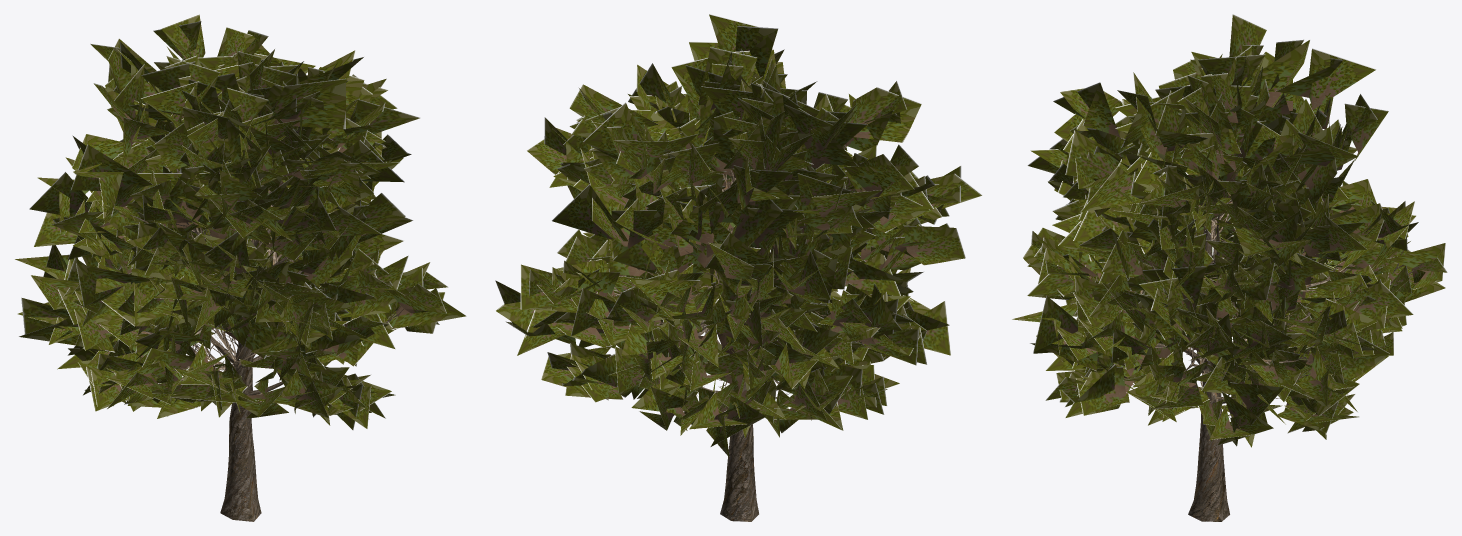
Rendered from tree_03.glb.
3 views of the same model, side by side, from view 1: azimuth 30°, elevation 25°; view 2: azimuth 150°, elevation 25°; view 3: azimuth 270°, elevation 25° (orthographic). The views are drawn at different scales.
Visible parts, largest first — view 1: TREE_03_mesh_1, TREE_03_Object_4, TREE_03_mesh_1.001; view 2: TREE_03_mesh_1, TREE_03_Object_4, TREE_03_mesh_1.001; view 3: TREE_03_mesh_1, TREE_03_Object_4, TREE_03_mesh_1.001.
Part boxes in pixels (<box>): TREE_03_mesh_1: <box>14,14,466,430</box>; TREE_03_Object_4: <box>211,191,288,521</box>; TREE_03_mesh_1.001: <box>123,48,415,402</box>; TREE_03_mesh_1: <box>495,14,982,457</box>; TREE_03_Object_4: <box>701,176,779,521</box>; TREE_03_mesh_1.001: <box>614,112,898,419</box>; TREE_03_mesh_1: <box>1011,14,1447,447</box>; TREE_03_Object_4: <box>1184,213,1290,521</box>; TREE_03_mesh_1.001: <box>1096,82,1423,417</box>.
Size of the model in its own units: 56.52 by 60.57 by 53.39.
Materials: 3 (3 with a texture image).
